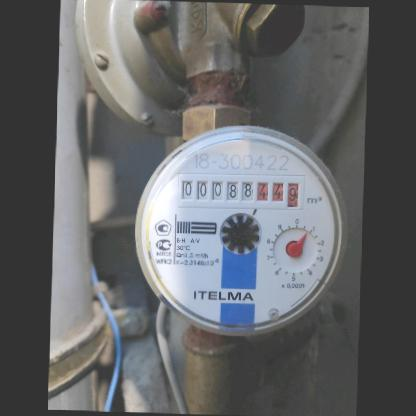digital_screen: (173, 169, 256, 211)
